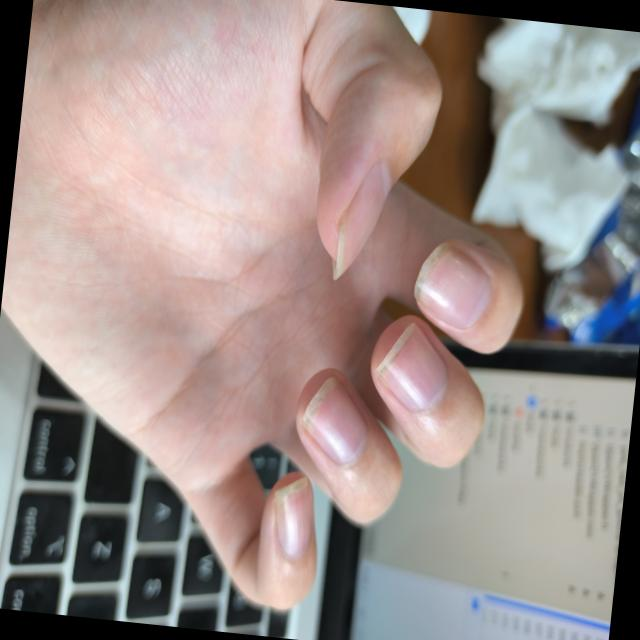Nail: (412, 243, 490, 330), (334, 162, 389, 279), (374, 323, 446, 412), (301, 378, 365, 464), (274, 479, 309, 558)
